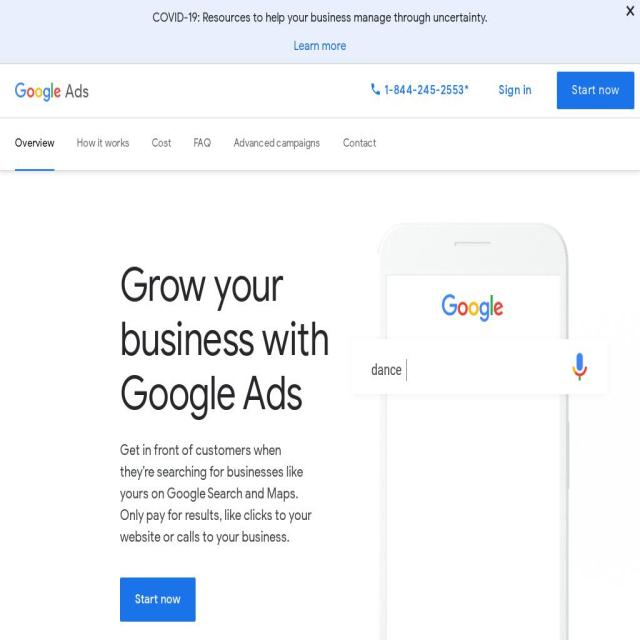button: (120, 576, 196, 622), (557, 72, 634, 109), (119, 72, 193, 105), (15, 68, 61, 114), (620, 1, 638, 24)
heading: (120, 255, 330, 423)
image: (441, 294, 503, 322), (15, 82, 61, 102)
link: (234, 124, 320, 164), (77, 124, 129, 164), (343, 124, 376, 164), (294, 38, 346, 54), (152, 124, 171, 164), (194, 124, 211, 164)
text: (119, 440, 312, 546), (80, 7, 560, 28), (15, 117, 54, 171), (384, 82, 468, 98), (125, 80, 187, 97), (134, 590, 180, 608), (65, 80, 89, 102), (499, 82, 532, 98), (370, 361, 396, 378)
